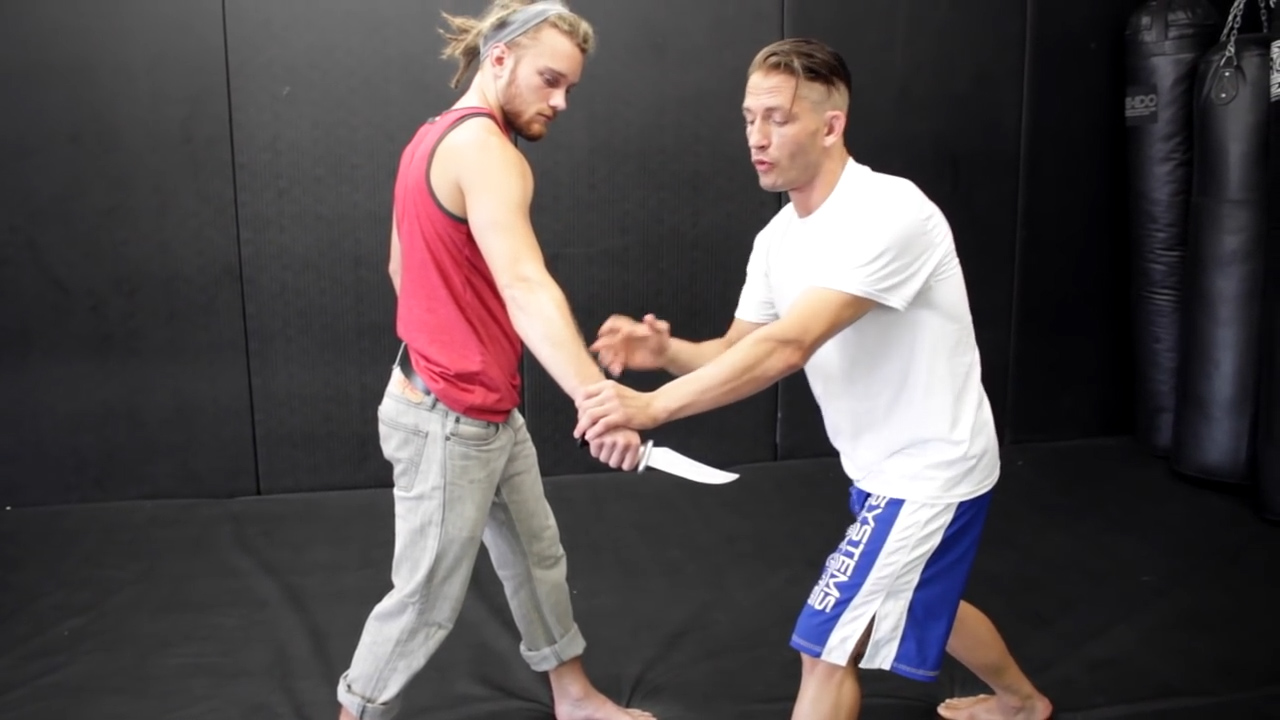knife: (572, 430, 751, 497)
